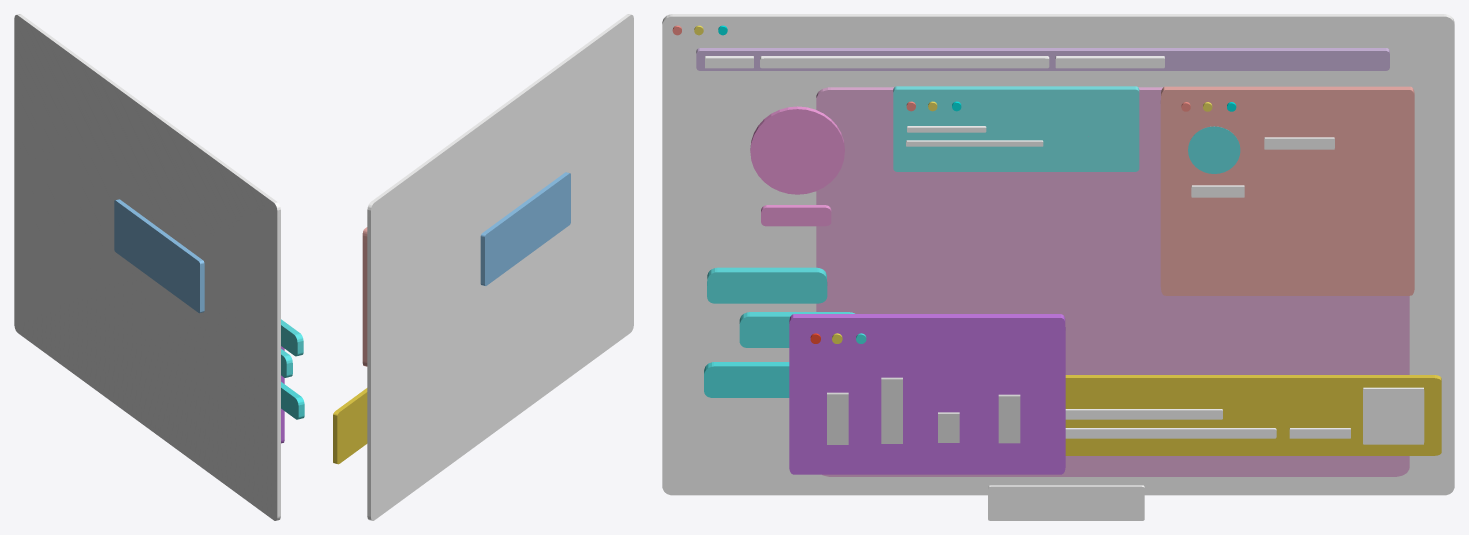
Rendered from website-anim.gltf.
The picture shows the model from 3 angles, left to right: view 1: azimuth 30°, elevation 25°; view 2: azimuth 150°, elevation 25°; view 3: azimuth 270°, elevation 25°; orthographic projection. The views are drawn at different scales.
Parts seen in each view (by area): view 1: Cube, Cube.022, Cube.012, Cube.010; view 2: Cube, Cube.022, Cube.028, Cube.016; view 3: Cube, Cube.008, Cube.016, Cube.020, Cube.028, Cube.013, Cube.004, Cylinder.007, Cube.033, Cube.010, Cube.006, Cube.035 (+12 smaller).
Part boxes in pixels (bbox=[...]): Cube: bbox=[14, 14, 280, 520]; Cube.022: bbox=[114, 199, 204, 313]; Cube.012: bbox=[281, 382, 304, 419]; Cube.010: bbox=[281, 319, 303, 356]; Cube: bbox=[367, 14, 633, 520]; Cube.022: bbox=[480, 172, 570, 285]; Cube.028: bbox=[333, 388, 367, 464]; Cube.016: bbox=[362, 227, 367, 366]; Cube: bbox=[662, 14, 1454, 495]; Cube.008: bbox=[816, 87, 1409, 476]; Cube.016: bbox=[1160, 86, 1414, 295]; Cube.020: bbox=[789, 314, 1065, 474]; Cube.028: bbox=[1065, 375, 1441, 455]; Cube.013: bbox=[893, 86, 1139, 171]; Cube.004: bbox=[696, 48, 1389, 70]; Cylinder.007: bbox=[750, 106, 844, 194]; Cube.033: bbox=[988, 485, 1144, 520]; Cube.010: bbox=[707, 267, 827, 303]; Cube.006: bbox=[760, 56, 1049, 68]; Cube.035: bbox=[1363, 387, 1424, 444].
Size of the model in its own units: 2.48 by 12.8 by 19.2.
